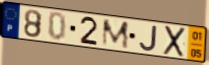0: (47, 11, 68, 42)
2: (79, 16, 99, 47)
8: (24, 9, 44, 39)
J: (138, 24, 159, 53)
M: (100, 19, 130, 50)
X: (162, 25, 187, 59)
